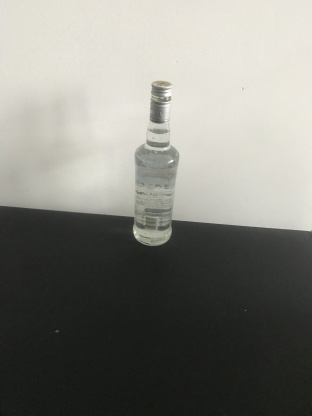nakretka: (148, 79, 173, 123)
